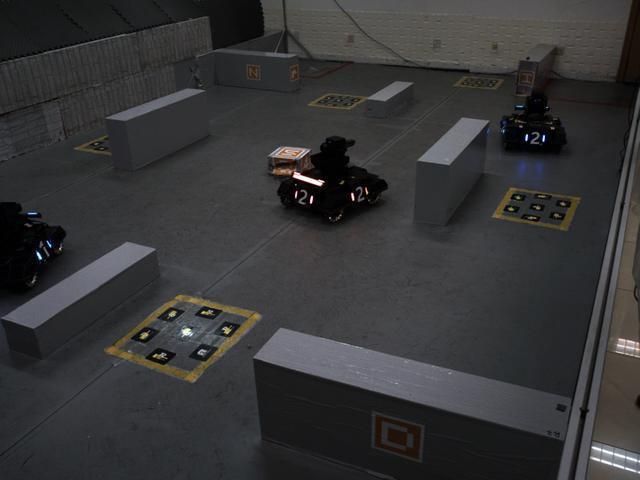armor: (291, 184, 318, 213), (32, 238, 56, 266), (520, 127, 549, 150), (347, 183, 372, 206)
